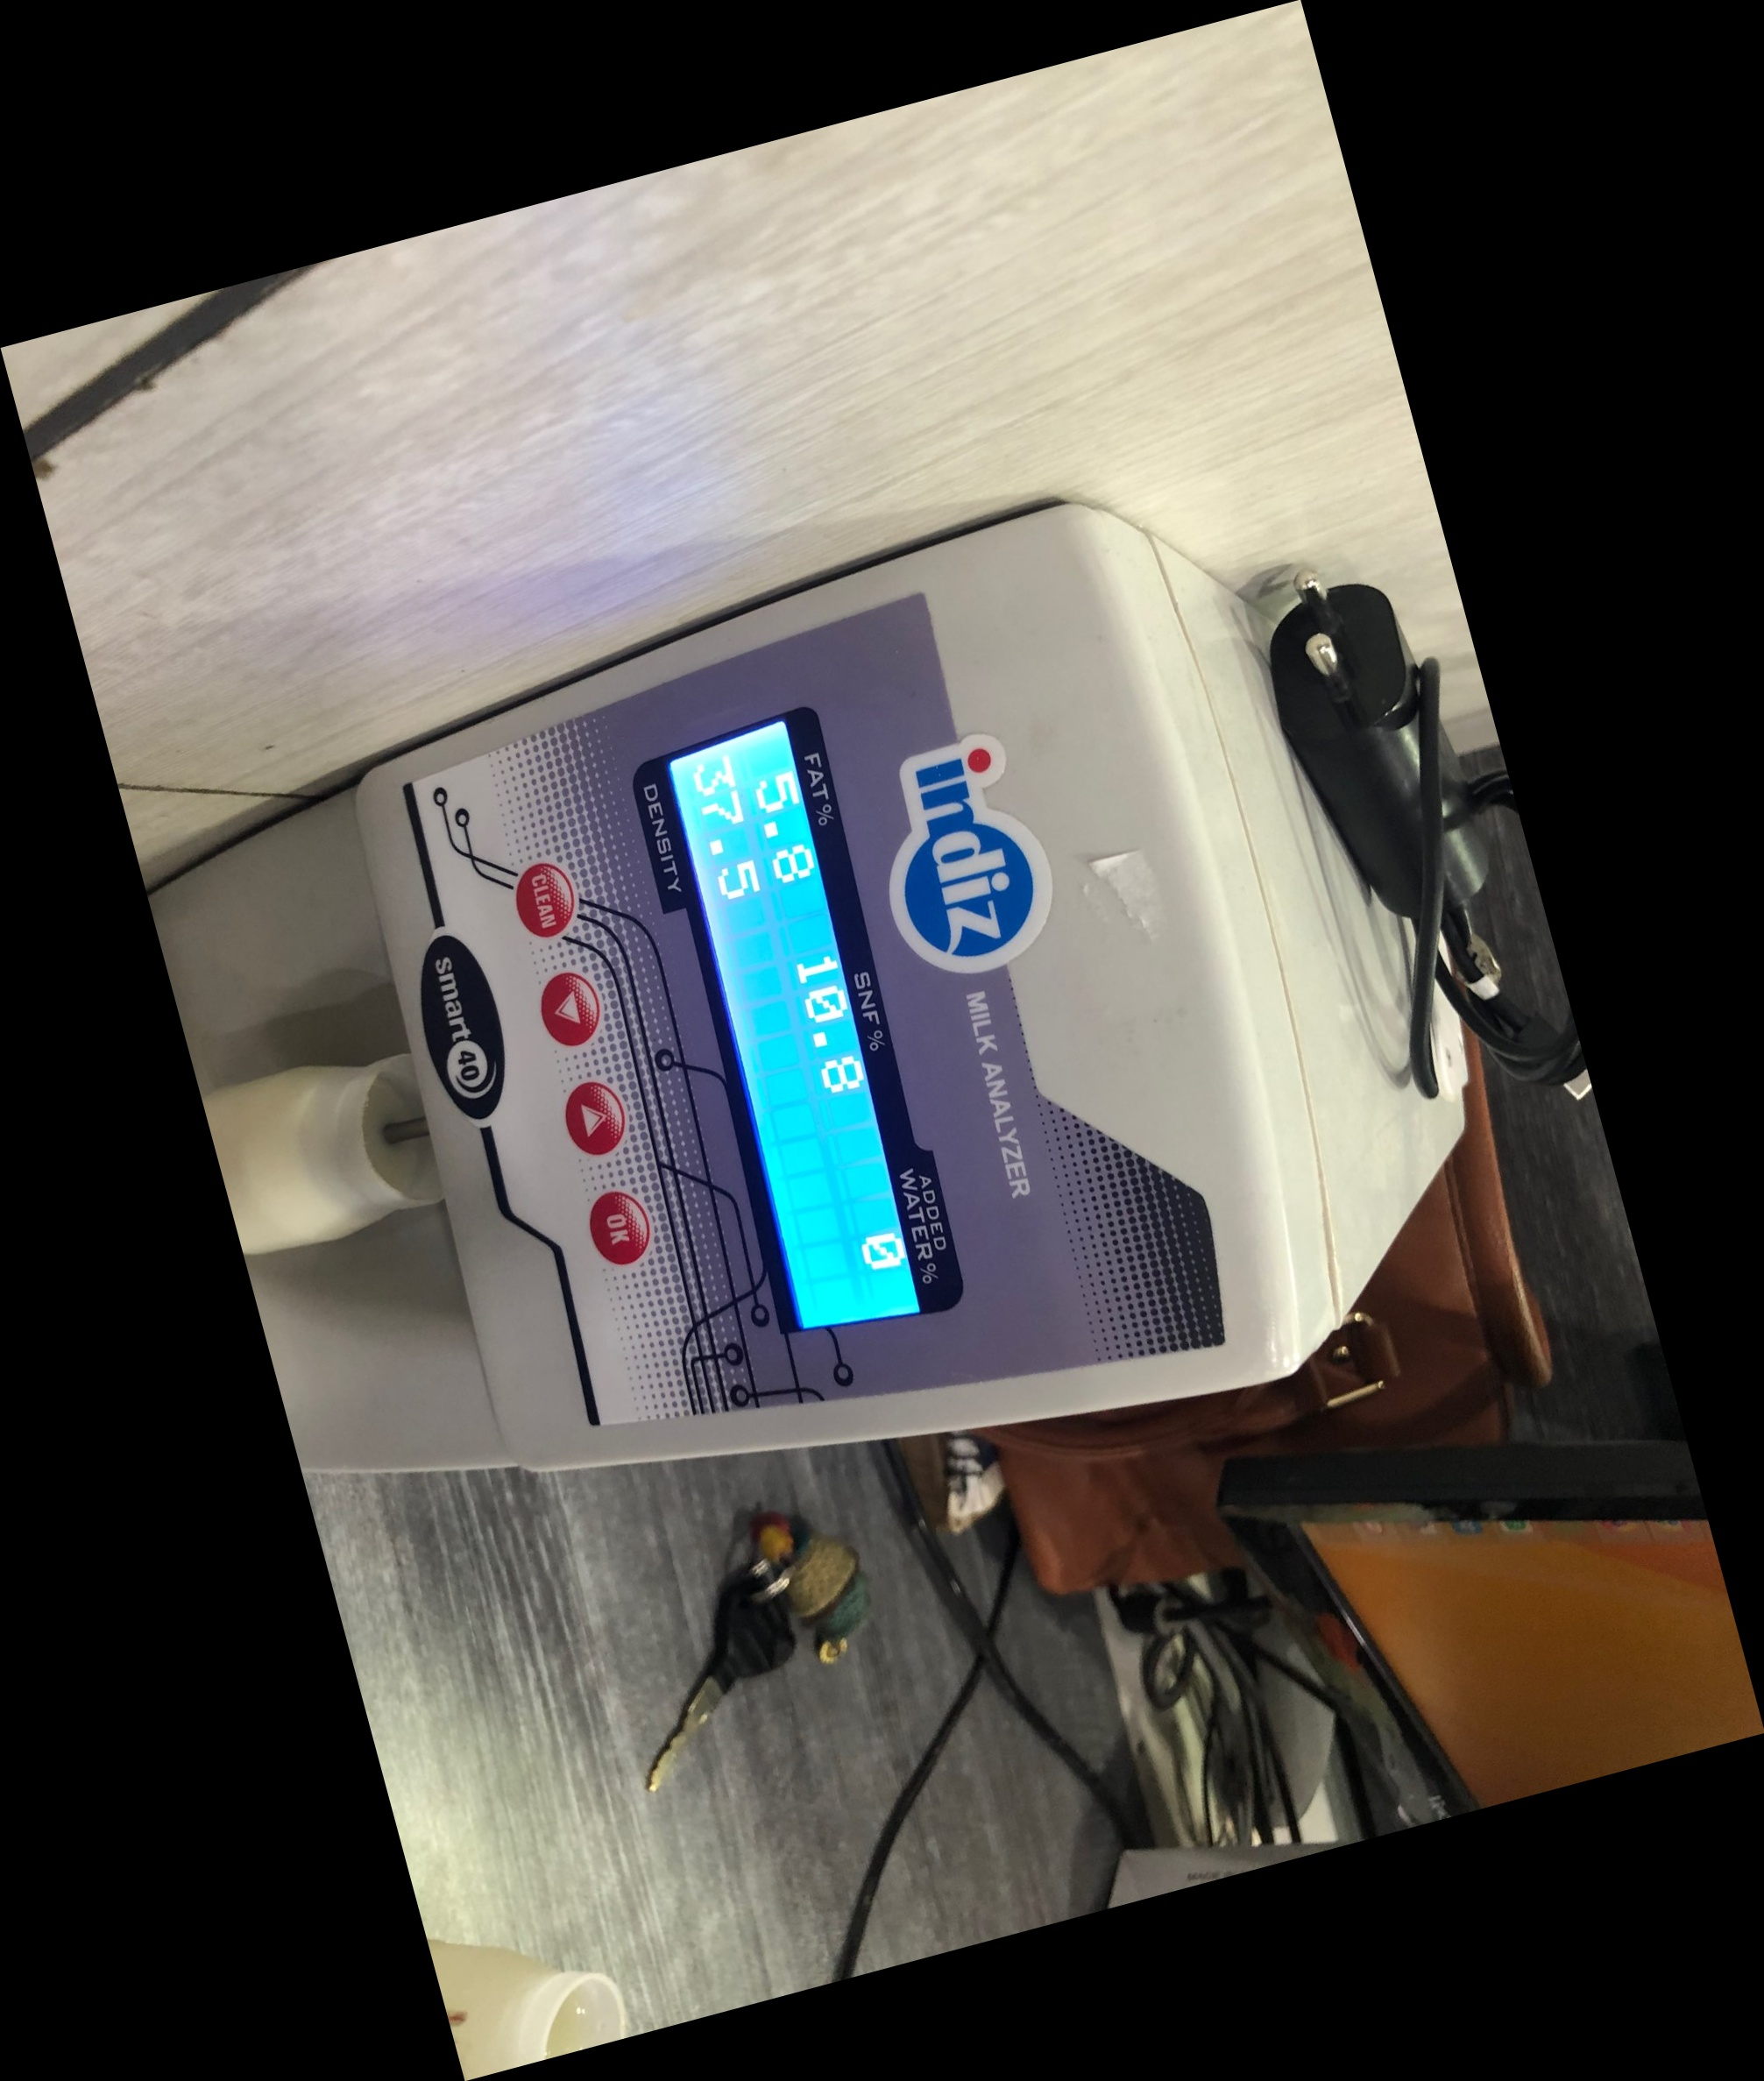lcd: (604, 690, 994, 1362)
